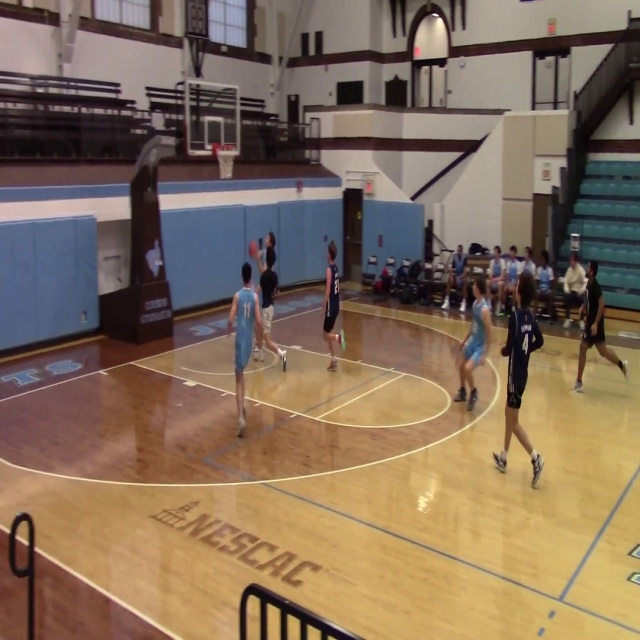Basketball: (248, 240, 259, 258), (265, 234, 274, 247)
